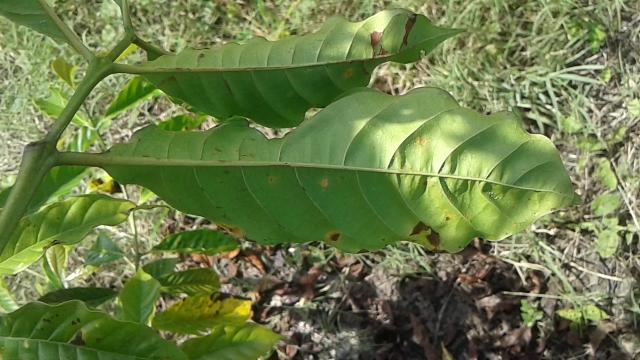rust_level_2: (107, 94, 572, 252)
